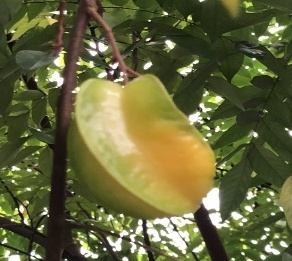Khe: (62, 71, 225, 225)
